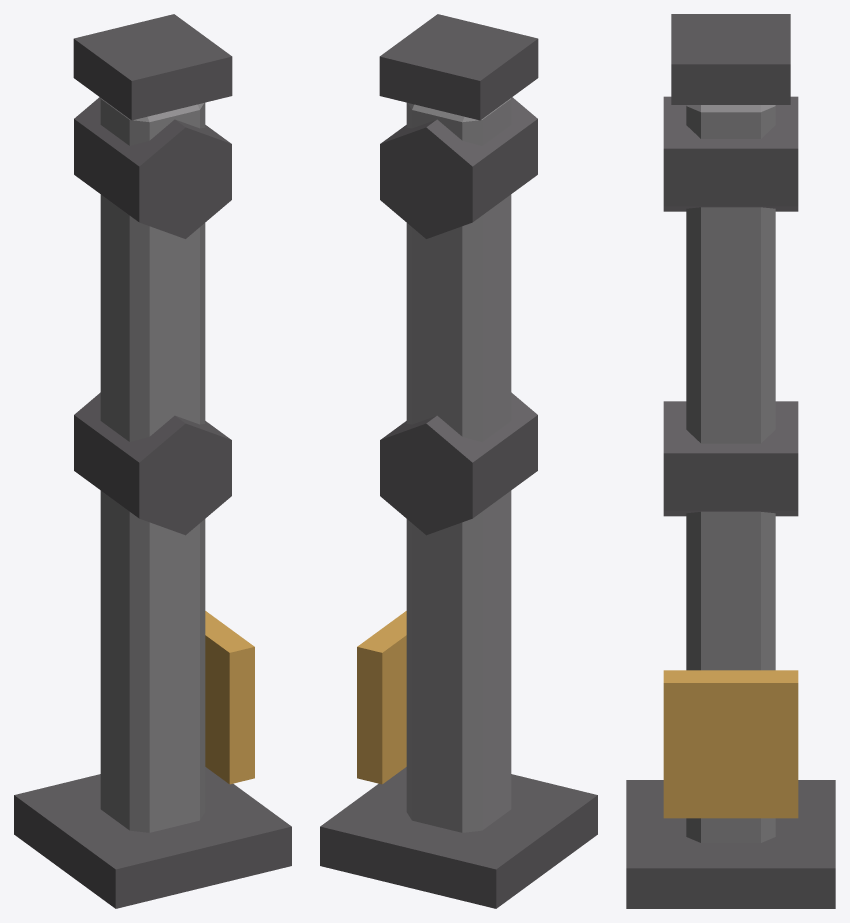
The model's file is rn2-canion-post.glb.
The picture shows the model from 3 angles, left to right: view 1: azimuth 30°, elevation 25°; view 2: azimuth 150°, elevation 25°; view 3: azimuth 270°, elevation 25°; orthographic projection. The views are drawn at different scales.
Visible parts, largest first — view 1: rn2_canion_post_body, rn2_canion_post_glow; view 2: rn2_canion_post_body, rn2_canion_post_glow; view 3: rn2_canion_post_body, rn2_canion_post_glow.
Boxes of the visible parts, x1,y1,x2,y2 form: rn2_canion_post_body: (14,14,291,908); rn2_canion_post_glow: (205,611,254,784); rn2_canion_post_body: (320,14,597,908); rn2_canion_post_glow: (357,611,406,784); rn2_canion_post_body: (626,14,835,908); rn2_canion_post_glow: (663,670,798,818).
Bounding box in the file's own units: 0.28 × 1.22 × 0.28.
